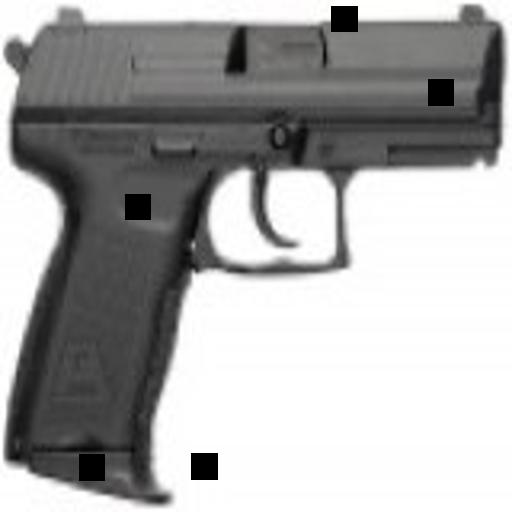Handgun: (2, 3, 495, 489)
